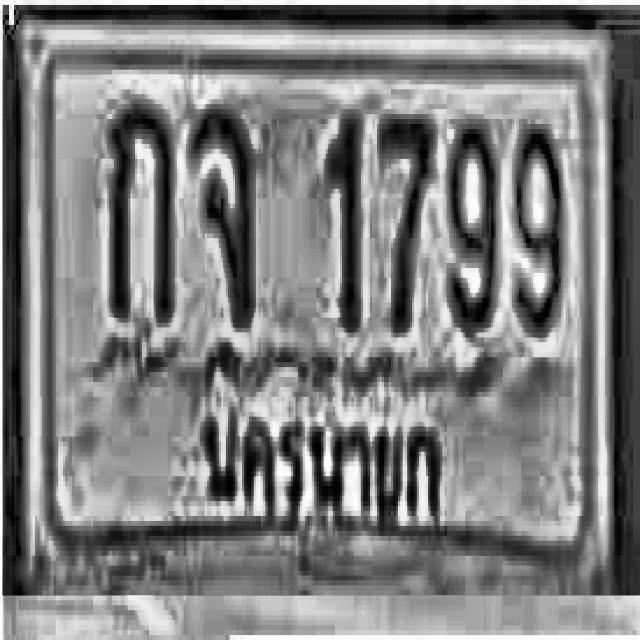license-plate: (19, 11, 629, 616)
